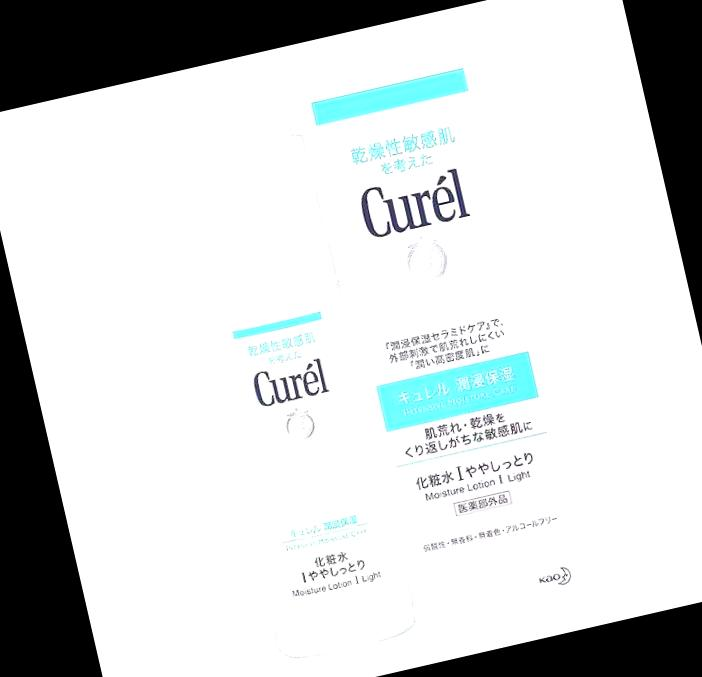cosmetic: (166, 130, 420, 650)
